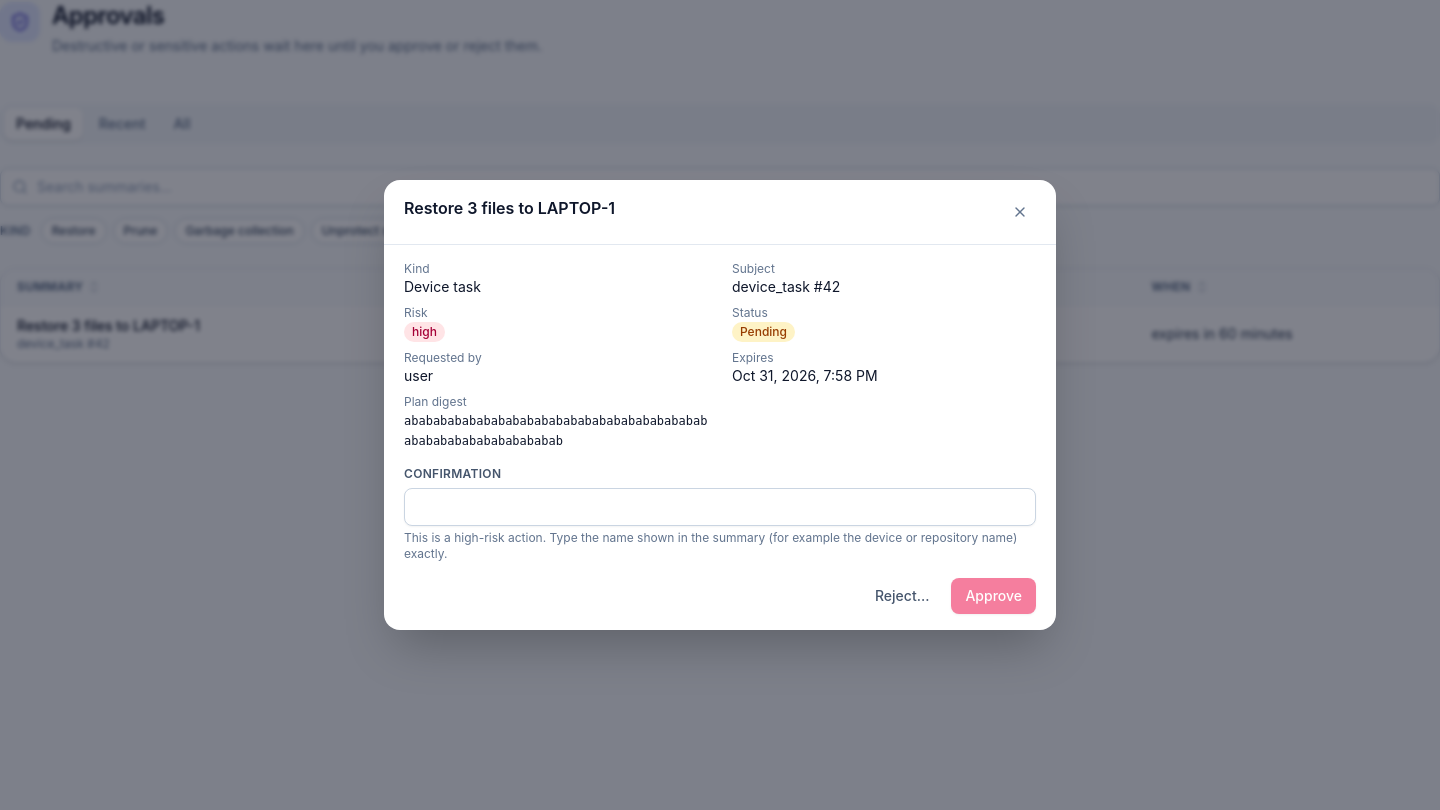
Scenario: ApprovalsPage › shows a clear message for 403 not_superuser
Type "X" into the field named "Confirmation text". click: (720, 507)
box: [404,488,1036,526]
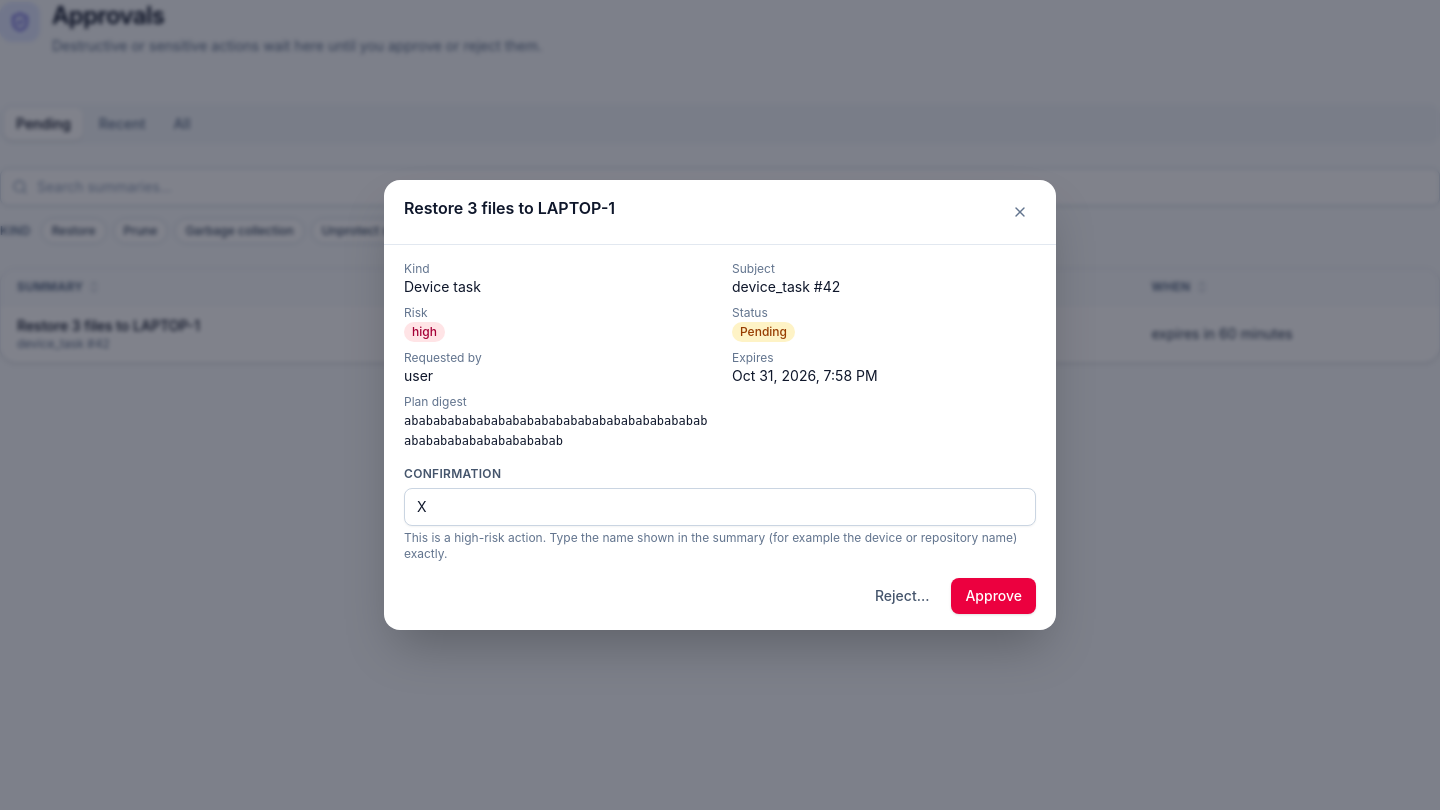
Click the button "Approve". click: click(994, 596)
box: [951,578,1036,614]
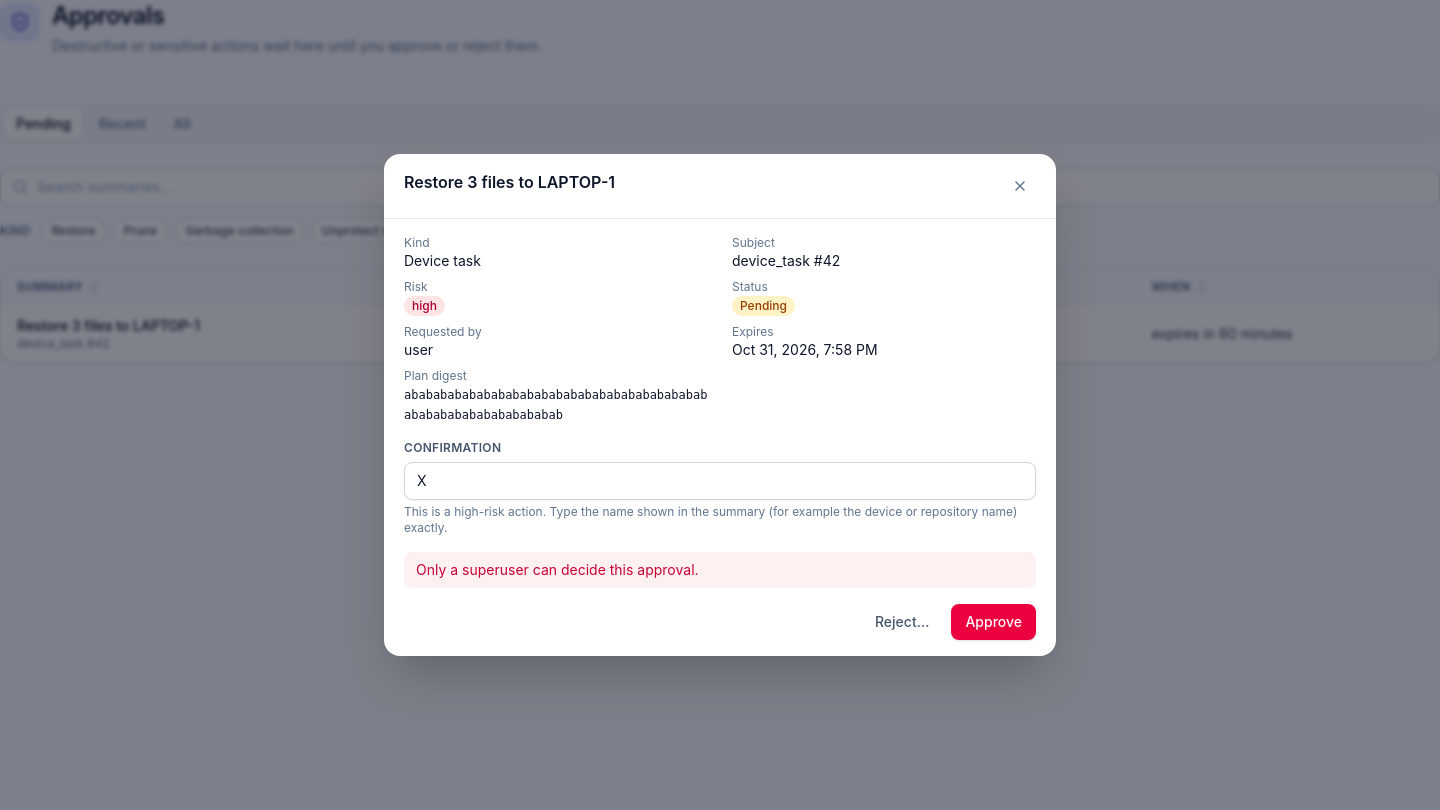
Expected: the dialog is shown, [384,154,1056,656]
Now the message shows "Only a superuser", box [416,561,699,578]
